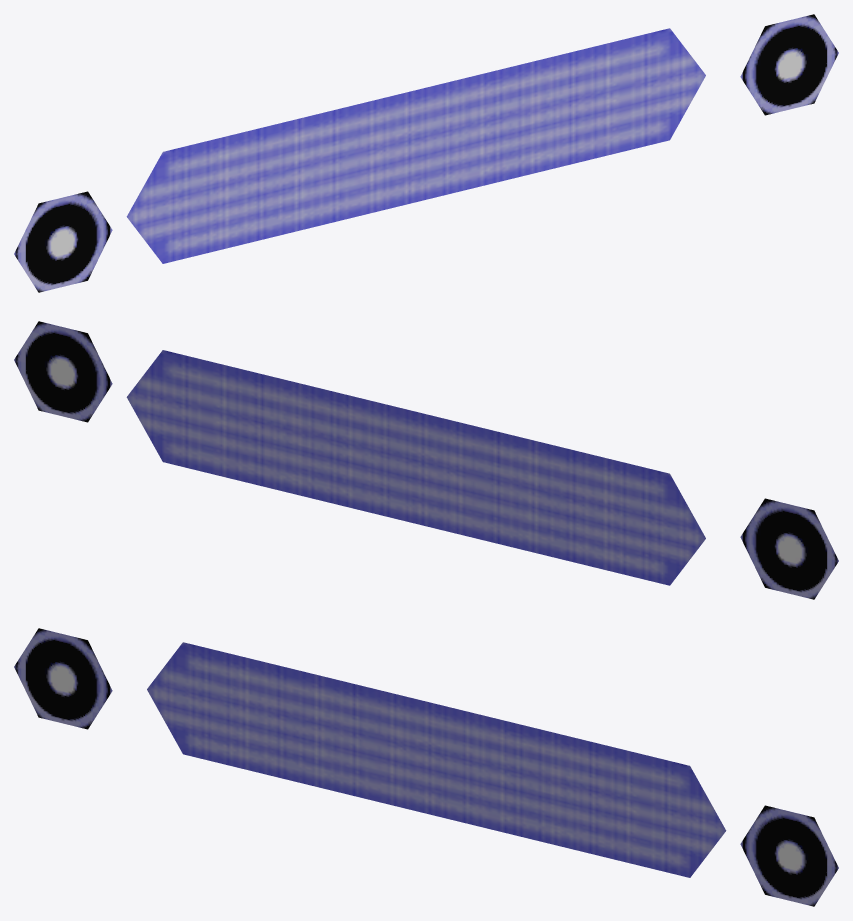
File: yt1300_engine_s02_on_l2.fbx
The picture shows the model from 3 angles, top to bottom: view 1: azimuth 30°, elevation 25°; view 2: azimuth 150°, elevation 25°; view 3: azimuth 330°, elevation 25°; orthographic projection.
Parts seen in each view (by area): view 1: mesh_node; view 2: mesh_node; view 3: mesh_node.
Boxes of the visible parts, left/top/right/bottom form: mesh_node: left=14, top=14, right=838, bottom=292; mesh_node: left=14, top=321, right=838, bottom=599; mesh_node: left=14, top=628, right=838, bottom=906.
Size of the model in its own units: 10.68 by 1.39 by 0.2261.
Materials: 1 (1 with a texture image).
